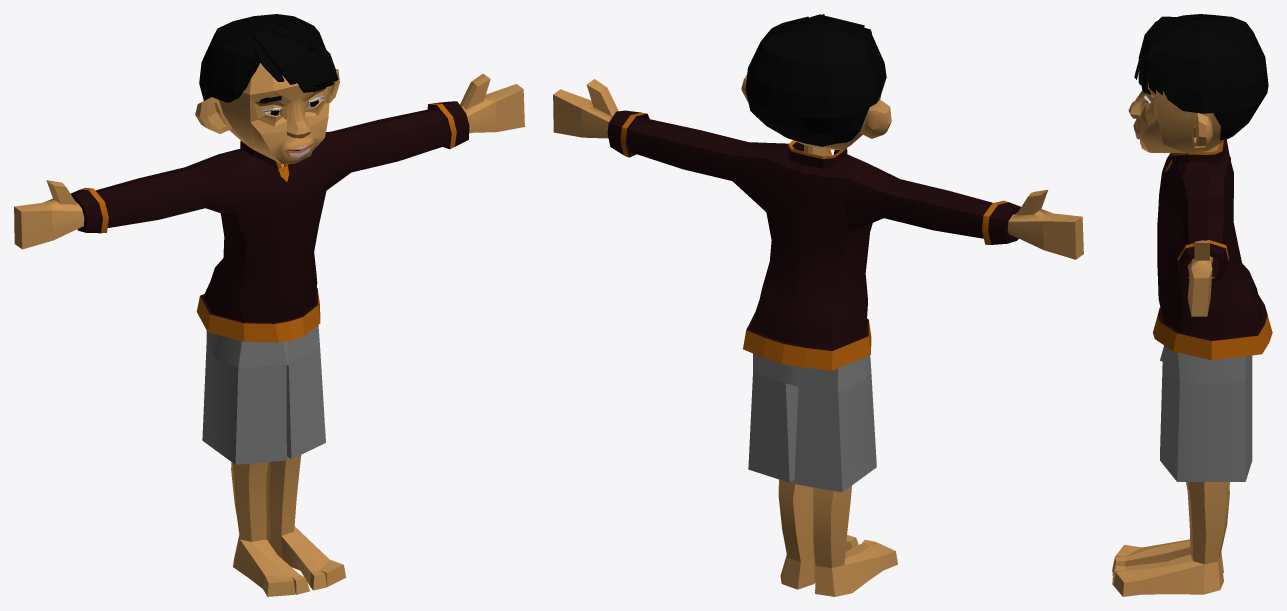
File: littleBrother_export_001.obj
The picture shows the model from 3 angles, left to right: view 1: azimuth 30°, elevation 25°; view 2: azimuth 150°, elevation 25°; view 3: azimuth 270°, elevation 25°; orthographic projection. The views are drawn at different scales.
Parts seen in each view (by area): view 1: pCube21, pCube3, pCube22, pCube18, pCube4; view 2: pCube21, pCube3, pCube22, pCube18; view 3: pCube21, pCube3, pCube22, pCube18, pCube4, pCube20, pCube9, pCube7, pCube5, pCube6, pCube19.
Part boxes in pixels (box(x1,y1,x2,y2)): pCube21: box(71, 101, 469, 342); pCube3: box(14, 63, 524, 596); pCube22: box(202, 325, 325, 464); pCube18: box(199, 14, 325, 102); pCube4: box(262, 23, 327, 87); pCube21: box(607, 110, 1020, 370); pCube3: box(553, 74, 1083, 596); pCube22: box(748, 353, 876, 492); pCube18: box(745, 16, 886, 146); pCube21: box(1153, 139, 1272, 360); pCube3: box(1112, 83, 1229, 596); pCube22: box(1160, 345, 1252, 481); pCube18: box(1158, 14, 1268, 140); pCube4: box(1138, 22, 1203, 85); pCube20: box(1151, 23, 1194, 95); pCube9: box(1142, 33, 1195, 93); pCube7: box(1138, 15, 1193, 58); pCube5: box(1134, 20, 1203, 79); pCube6: box(1141, 31, 1197, 93); pCube19: box(1147, 34, 1170, 94).
Size of the model in its own units: 13.44 by 13.66 by 3.59.
